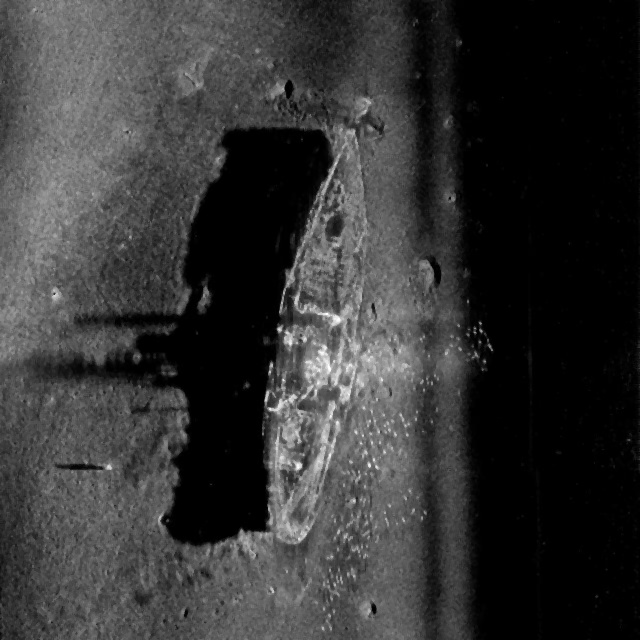Ship: (231, 82, 396, 567)
